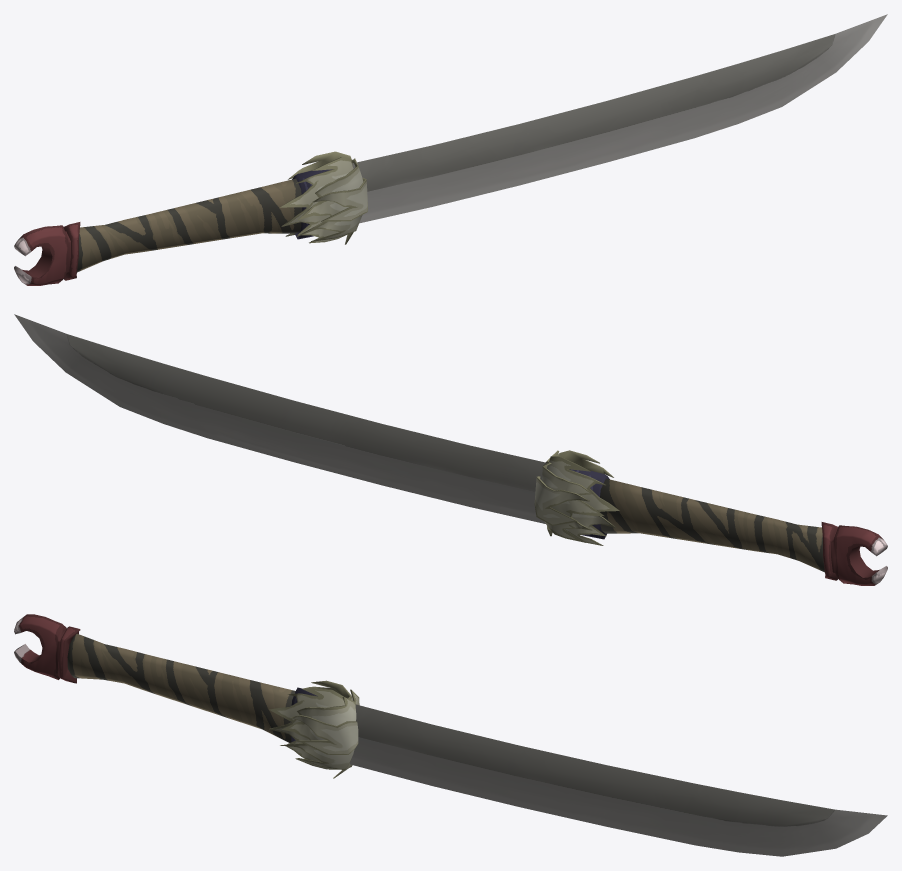
Rendered from TojiSoulSword.glb.
The picture shows the model from 3 angles, top to bottom: view 1: azimuth 30°, elevation 25°; view 2: azimuth 150°, elevation 25°; view 3: azimuth 330°, elevation 25°; orthographic projection.
Visible parts, largest first — view 1: Sword; view 2: Sword; view 3: Sword.
Boxes of the visible parts, box(x1,y1,x2,y2) form: Sword: box(14, 14, 887, 285); Sword: box(14, 314, 887, 585); Sword: box(14, 614, 887, 856).
Size of the model in its own units: 5.79 by 0.5875 by 0.2936.
1 material, 1 textured.
